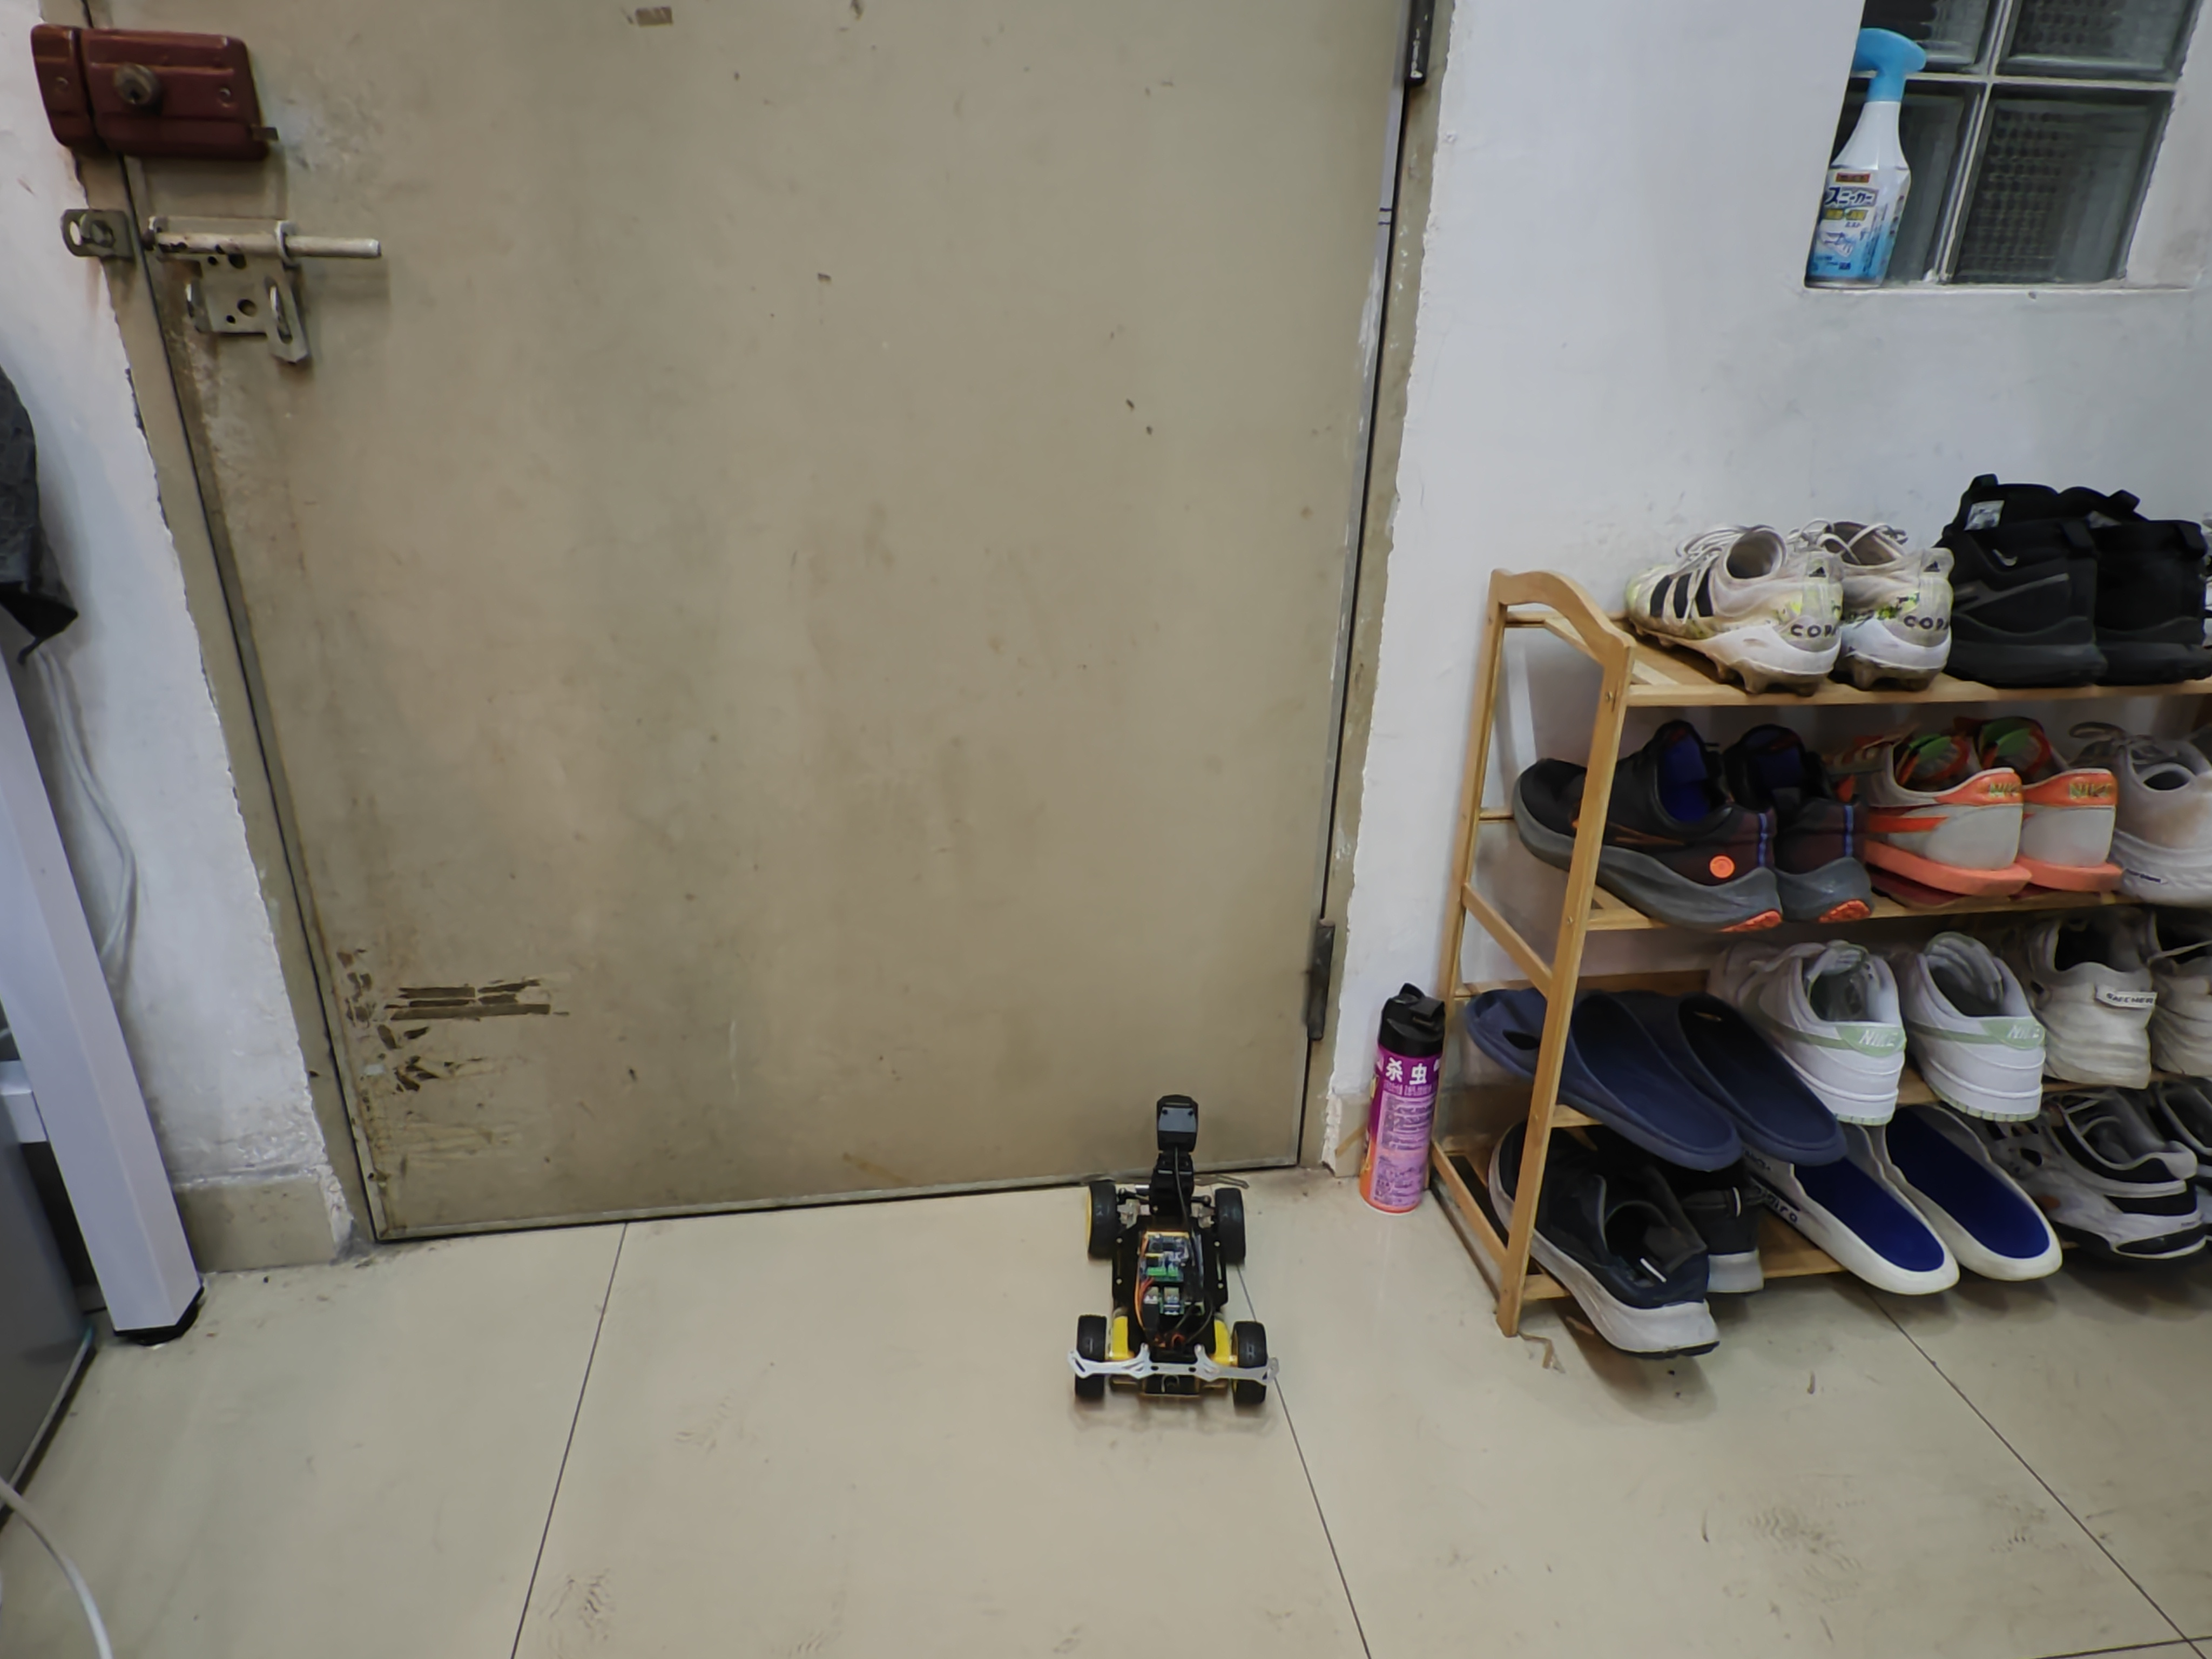car: (1059, 1066, 1284, 1436)
